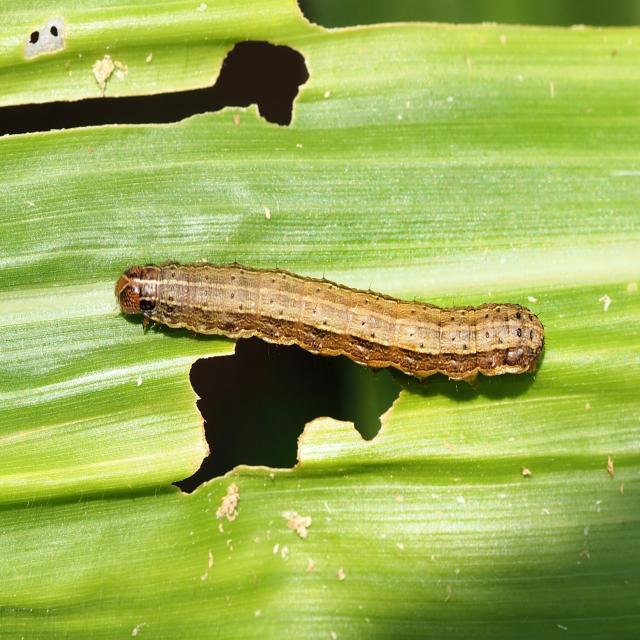yellow-stem-borer-larva: (109, 240, 573, 422)
